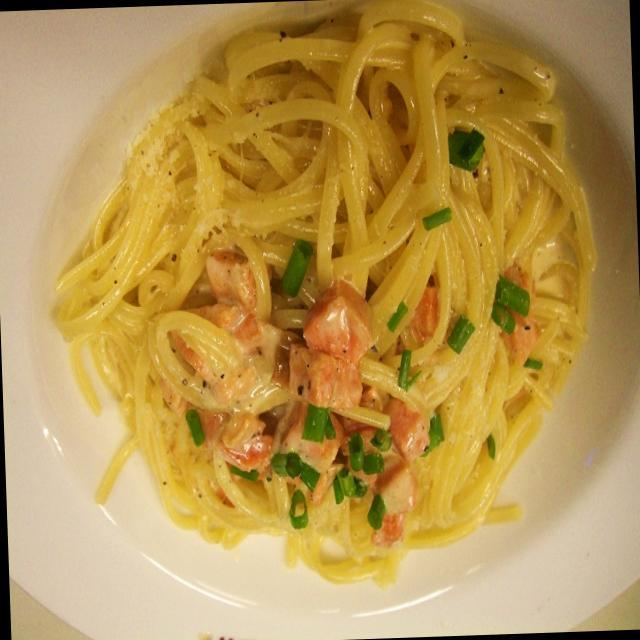Pasta: (54, 9, 612, 604)
